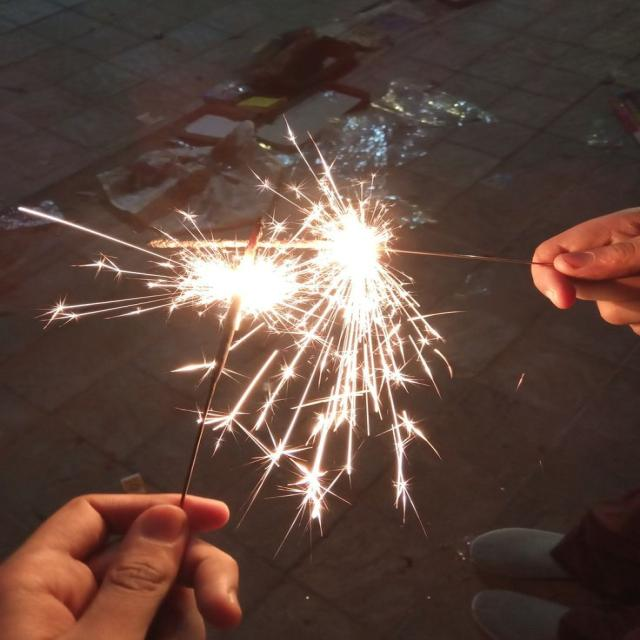fire: (314, 206, 394, 322), (176, 255, 303, 314)
